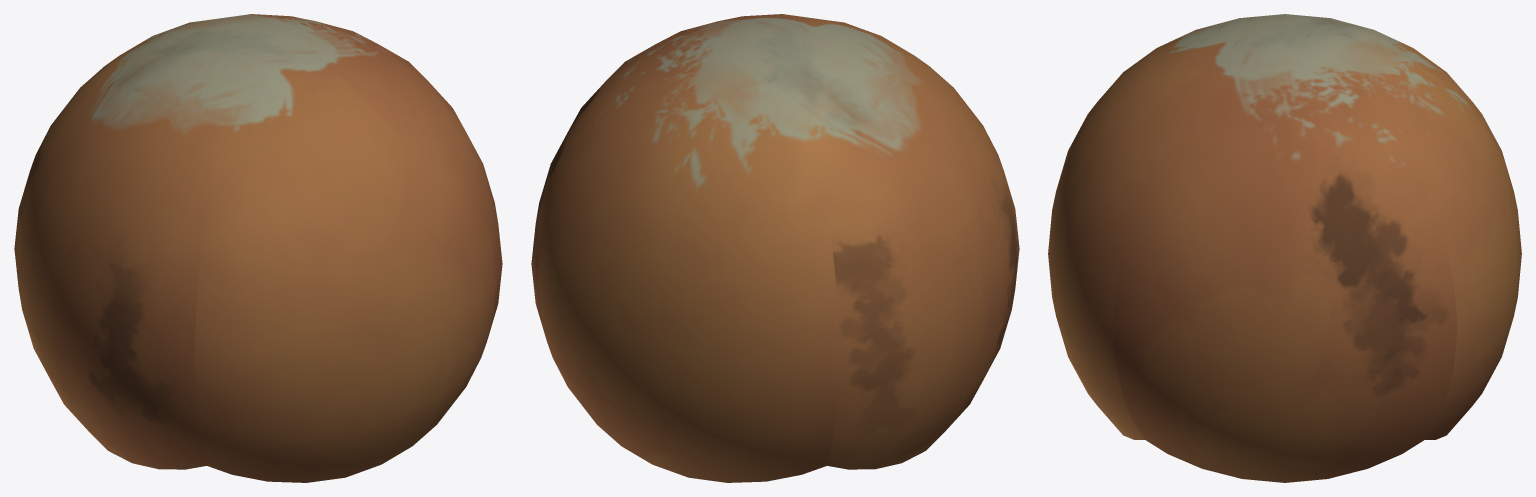
Rendered from Mars.dae.
The picture shows the model from 3 angles, left to right: view 1: azimuth 30°, elevation 25°; view 2: azimuth 150°, elevation 25°; view 3: azimuth 270°, elevation 25°; orthographic projection.
Visible parts, largest first — view 1: pCube5; view 2: pCube5; view 3: pCube5.
Part boxes in pixels (x1,y1,x2,y2): pCube5: (14, 14, 502, 482); pCube5: (531, 14, 1019, 482); pCube5: (1048, 14, 1521, 482).
Size of the model in its own units: 212 by 183 by 212.
1 material, 1 textured.
